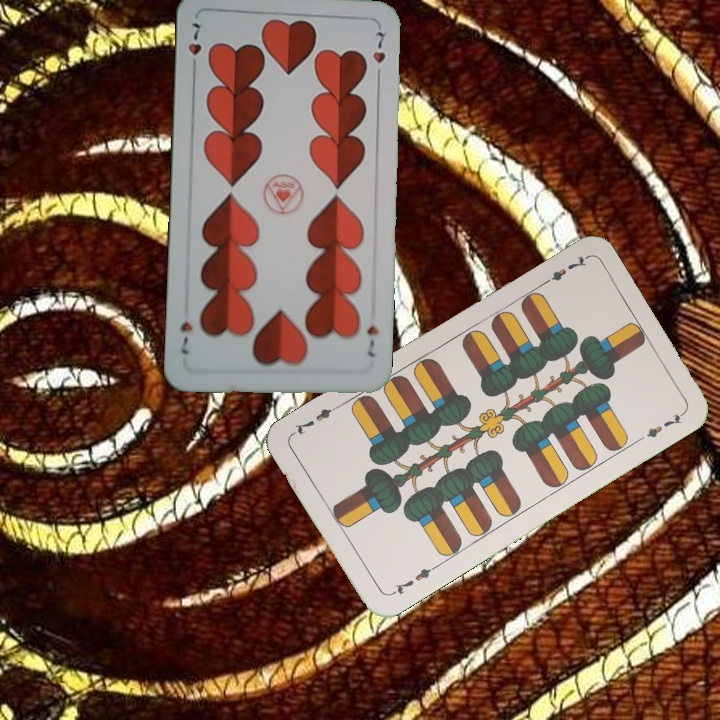E7: (386, 561, 439, 598), (536, 252, 589, 289)
H7: (184, 16, 204, 75), (363, 322, 381, 360)
